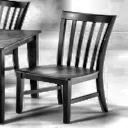chair_success: (10, 4, 122, 125)
